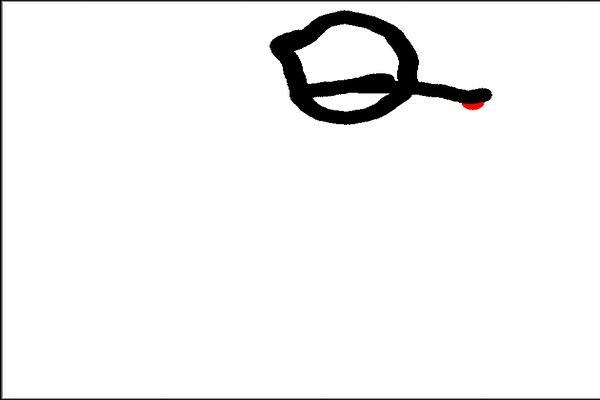Q: (266, 5, 464, 140)
